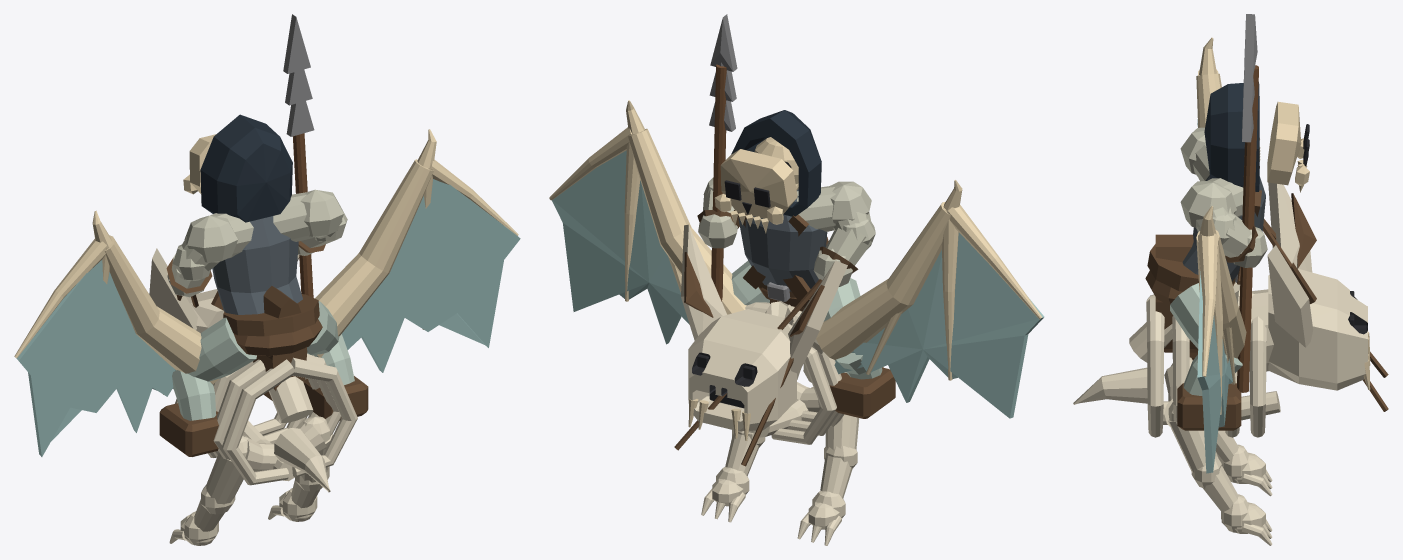
Rendered from host_27.glb.
The picture shows the model from 3 angles, left to right: view 1: azimuth 30°, elevation 25°; view 2: azimuth 150°, elevation 25°; view 3: azimuth 270°, elevation 25°; orthographic projection. The views are drawn at different scales.
Parts seen in each view (by area): view 1: V6 source mounted closed scalloped membrane R, V6 source mounted closed scalloped membrane L, V6 source fitted domed cloth hood, V6 source mounted wing shoulder elbow wrist bone R, V6 rider source seated thorax, V6 source mounted wing shoulder elbow wrist bone L, V6 Spectral bat actual open curved anatomical rib, V6 rider actual connected seated thigh L, V6 Spectral bat actual open curved anatomical rib.001, Grounded boot L, Continuous leather waist belt, Connected shoulder L (+25 smaller); view 2: V6 source mounted closed scalloped membrane L, V6 source mounted closed scalloped membrane R, V6 bat source short faceted cranium, V6 source mounted wing shoulder elbow wrist bone L, V6 source mounted wing shoulder elbow wrist bone R, V6 rider source seated thorax, V6 source fitted domed cloth hood, Source carved bone skull faceted broad mask, Grounded boot L, V6 bat source tall pointed anatomical ear.001, V6 bat source tall pointed anatomical ear, V6 source continuous held spear shaft (+23 smaller); view 3: V6 bat source short faceted cranium, V6 source fitted domed cloth hood, V6 source mounted closed scalloped membrane R, V6 source continuous held spear shaft, V6 bat source tall pointed anatomical ear.001, Source carved bone skull faceted broad mask, V6 Spectral bat actual open curved anatomical rib.001, V6 Spectral bat actual open curved anatomical rib.009, V6 source actual membrane finger R, V6 bat source tall pointed anatomical ear, V6 bat actual tapering caudal root, Grounded boot R (+33 smaller).
Part boxes in pixels (x1=…): V6 source mounted closed scalloped membrane R: x1=342, y1=179, x2=520, y2=372; V6 source mounted closed scalloped membrane L: x1=16, y1=260, x2=175, y2=456; V6 source fitted domed cloth hood: x1=200, y1=114, x2=292, y2=222; V6 source mounted wing shoulder elbow wrist bone R: x1=315, y1=159, x2=433, y2=357; V6 rider source seated thorax: x1=212, y1=216, x2=302, y2=314; V6 source mounted wing shoulder elbow wrist bone L: x1=105, y1=235, x2=219, y2=384; V6 Spectral bat actual open curved anatomical rib: x1=222, y1=359, x2=295, y2=485; V6 rider actual connected seated thigh L: x1=188, y1=317, x2=256, y2=381; V6 Spectral bat actual open curved anatomical rib.001: x1=291, y1=357, x2=357, y2=477; Grounded boot L: x1=159, y1=403, x2=218, y2=456; Continuous leather waist belt: x1=223, y1=294, x2=319, y2=336; Connected shoulder L: x1=184, y1=215, x2=237, y2=262; V6 source mounted closed scalloped membrane L: x1=834, y1=232, x2=1044, y2=418; V6 source mounted closed scalloped membrane R: x1=552, y1=150, x2=689, y2=344; V6 bat source short faceted cranium: x1=688, y1=309, x2=796, y2=431; V6 source mounted wing shoulder elbow wrist bone L: x1=816, y1=202, x2=950, y2=360; V6 source mounted wing shoulder elbow wrist bone R: x1=628, y1=128, x2=746, y2=314; V6 rider source seated thorax: x1=738, y1=189, x2=827, y2=291; V6 source fitted domed cloth hood: x1=731, y1=110, x2=821, y2=216; Source carved bone skull faceted broad mask: x1=720, y1=149, x2=797, y2=218; Grounded boot L: x1=829, y1=367, x2=895, y2=418; V6 bat source tall pointed anatomical ear.001: x1=681, y1=224, x2=727, y2=340; V6 bat source tall pointed anatomical ear: x1=788, y1=260, x2=847, y2=373; V6 source continuous held spear shaft: x1=711, y1=64, x2=726, y2=301; V6 bat source short faceted cranium: x1=1268, y1=269, x2=1367, y2=390; V6 source fitted domed cloth hood: x1=1204, y1=82, x2=1259, y2=191; V6 source mounted closed scalloped membrane R: x1=1197, y1=271, x2=1232, y2=473; V6 source continuous held spear shaft: x1=1237, y1=65, x2=1258, y2=392; V6 bat source tall pointed anatomical ear.001: x1=1267, y1=245, x2=1313, y2=347; Source carved bone skull faceted broad mask: x1=1267, y1=101, x2=1301, y2=185; V6 Spectral bat actual open curved anatomical rib.001: x1=1146, y1=297, x2=1164, y2=437; V6 Spectral bat actual open curved anatomical rib.009: x1=1249, y1=316, x2=1266, y2=437; V6 source actual membrane finger R: x1=1198, y1=233, x2=1218, y2=376; V6 bat source tall pointed anatomical ear: x1=1268, y1=182, x2=1312, y2=272; V6 bat actual tapering caudal root: x1=1073, y1=367, x2=1147, y2=404; Grounded boot R: x1=1177, y1=383, x2=1241, y2=430.
Bounding box in the file's own units: 2.35 × 2.27 × 1.23.
